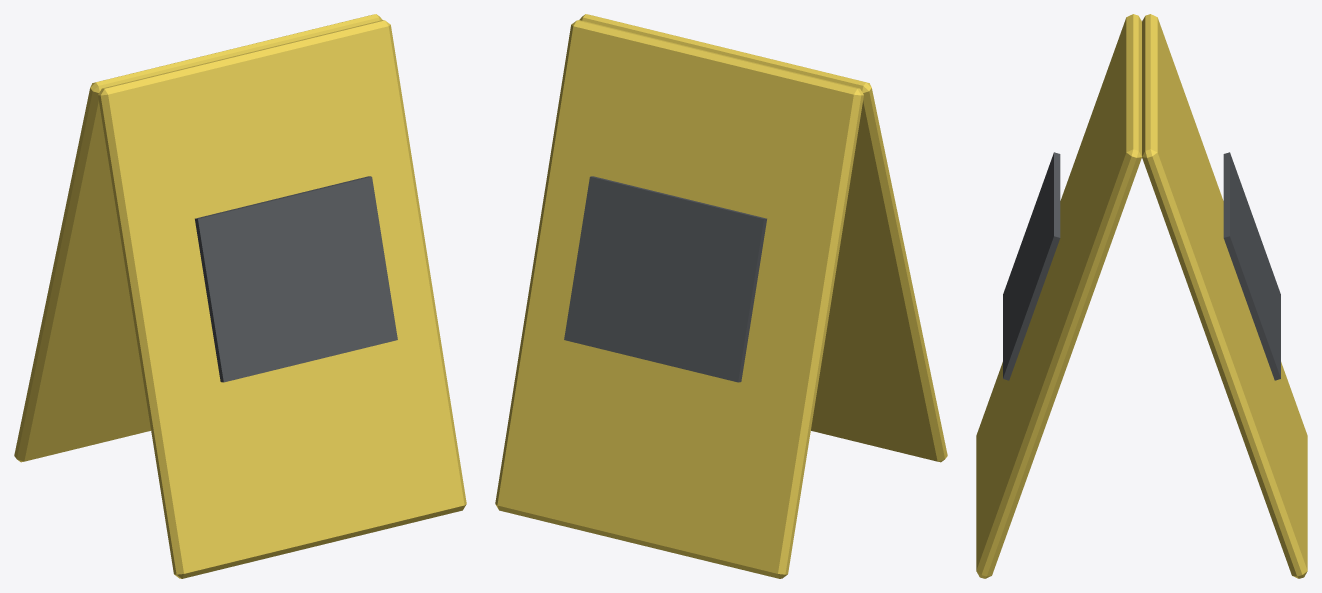
The model's file is an_sign.glb.
3 views of the same model, side by side, from view 1: azimuth 30°, elevation 25°; view 2: azimuth 150°, elevation 25°; view 3: azimuth 270°, elevation 25° (orthographic).
Visible parts, largest first — view 1: an_sign; view 2: an_sign; view 3: an_sign.
Boxes of the visible parts, x1,y1,x2,y2 form: an_sign: (14, 14, 466, 578); an_sign: (495, 14, 947, 578); an_sign: (976, 14, 1307, 578).
Size of the model in its own units: 0.6 by 0.859 by 0.6005.
